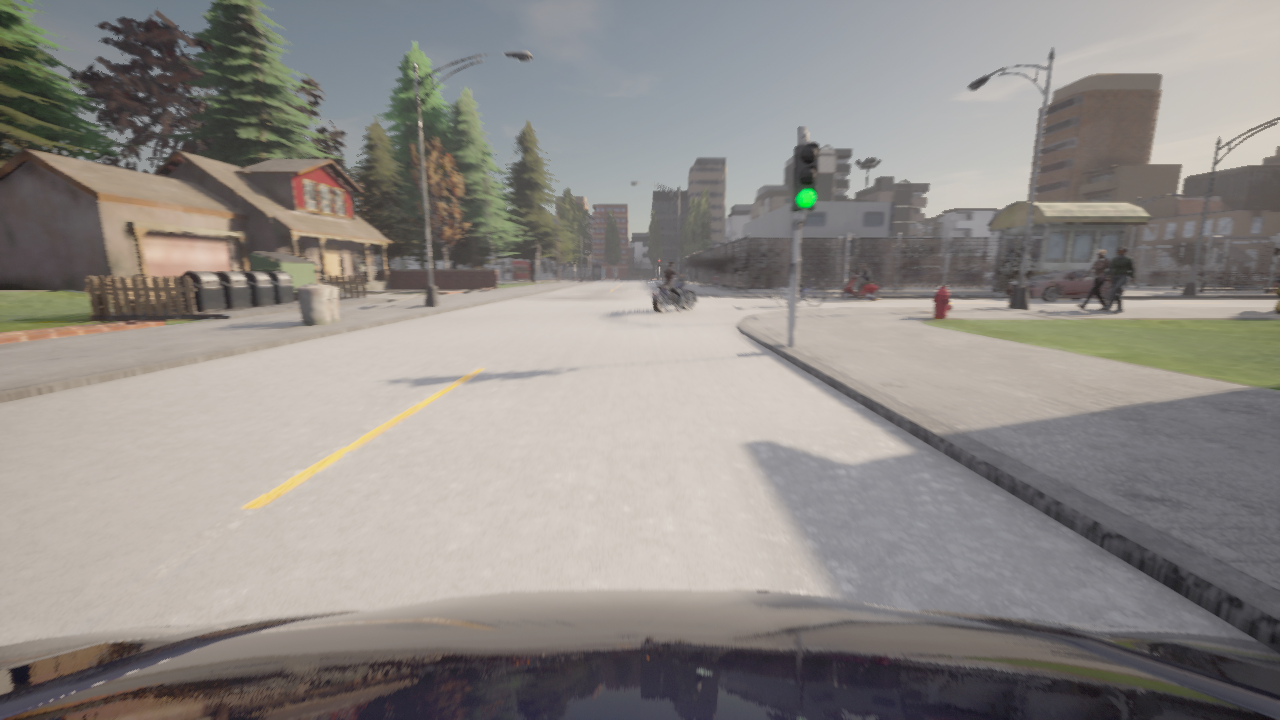cyclist: (0, 588, 1279, 719), (1004, 269, 1123, 301), (651, 273, 696, 312), (775, 279, 824, 306), (840, 272, 880, 299), (902, 266, 941, 281), (915, 271, 955, 282), (972, 267, 994, 284), (951, 270, 979, 283), (927, 270, 952, 282), (989, 275, 992, 284)
pedestrian: (1101, 246, 1135, 311), (1076, 249, 1112, 310), (1271, 277, 1279, 312), (713, 272, 718, 289)
